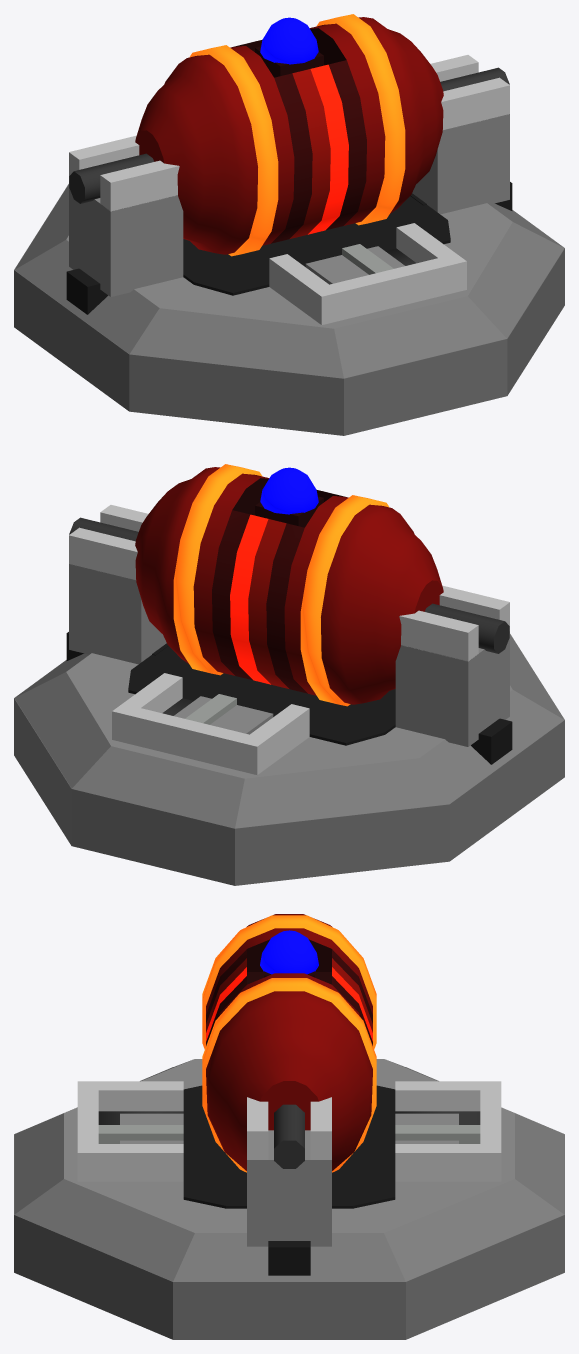
The model's file is newshk-245.glb.
The picture shows the model from 3 angles, top to bottom: view 1: azimuth 30°, elevation 25°; view 2: azimuth 150°, elevation 25°; view 3: azimuth 270°, elevation 25°; orthographic projection.
Parts seen in each view (by area): view 1: newshk-245; view 2: newshk-245; view 3: newshk-245.
Part boxes in pixels (x1,y1,x2,y2): newshk-245: [14, 14, 564, 435]; newshk-245: [14, 464, 564, 885]; newshk-245: [14, 914, 564, 1339].
Size of the model in its own units: 2 by 1.3 by 2.17.
